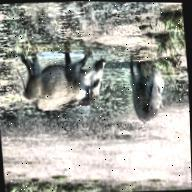boar: (10, 46, 109, 121), (123, 51, 173, 123)
